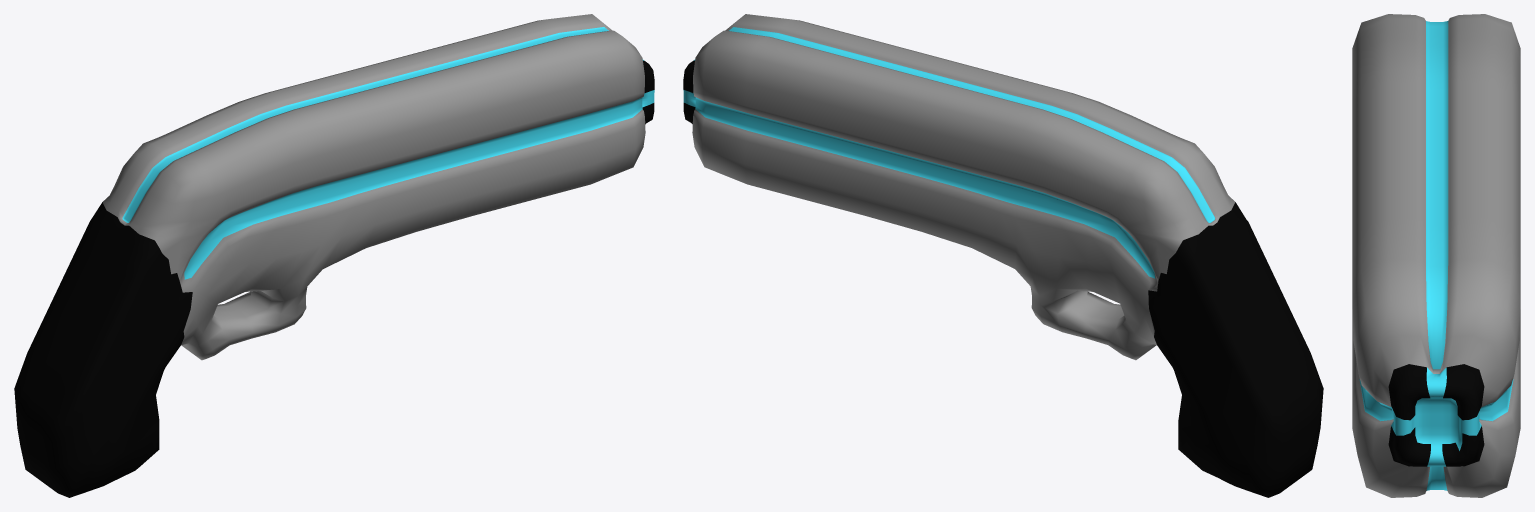
Rendered from Gun.FBX.
3 renders of one model, left to right at view 1: azimuth 30°, elevation 25°; view 2: azimuth 150°, elevation 25°; view 3: azimuth 270°, elevation 25°, orthographic. The views are drawn at different scales.
Visible parts, largest first — view 1: Gun; view 2: Gun; view 3: Gun.
Boxes of the visible parts, x1,y1,x2,y2 form: Gun: (14,14,654,497); Gun: (683,14,1323,497); Gun: (1352,14,1520,497).
Bounding box in the file's own units: 16.7 × 8.66 × 2.67.
